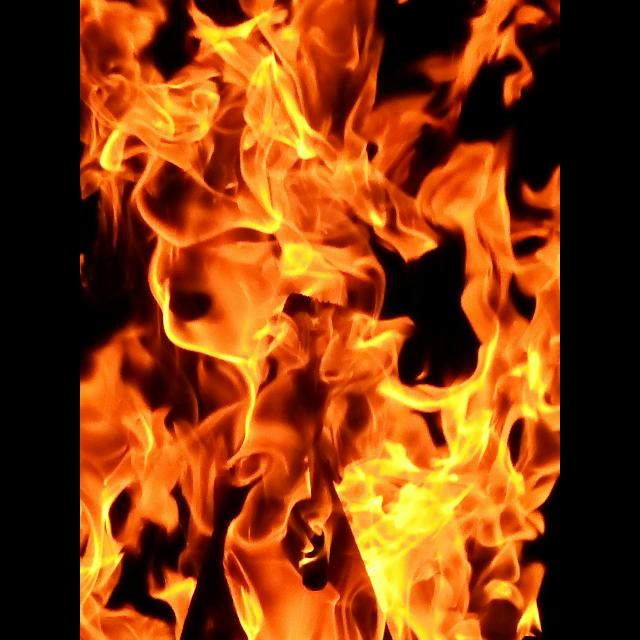fire: (80, 0, 560, 640)
